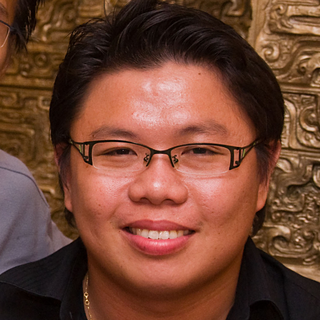eye: (179, 141, 225, 163), (95, 142, 141, 163)
